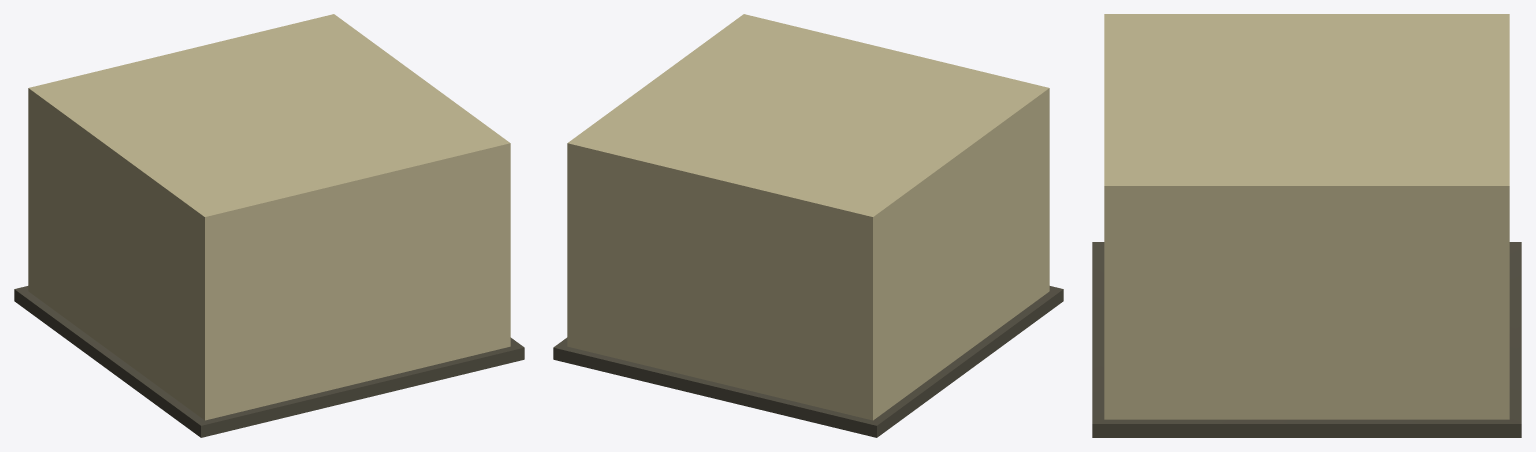
Rendered from building_base.fbx.
3 views of the same model, side by side, from view 1: azimuth 30°, elevation 25°; view 2: azimuth 150°, elevation 25°; view 3: azimuth 270°, elevation 25° (orthographic). The views are drawn at different scales.
Parts seen in each view (by area): view 1: building; view 2: building; view 3: building.
Boxes of the visible parts, bbox=[...] form: building: bbox=[14, 14, 524, 437]; building: bbox=[553, 14, 1063, 437]; building: bbox=[1092, 14, 1521, 437].
Size of the model in its own units: 106 by 67.35 by 106.
